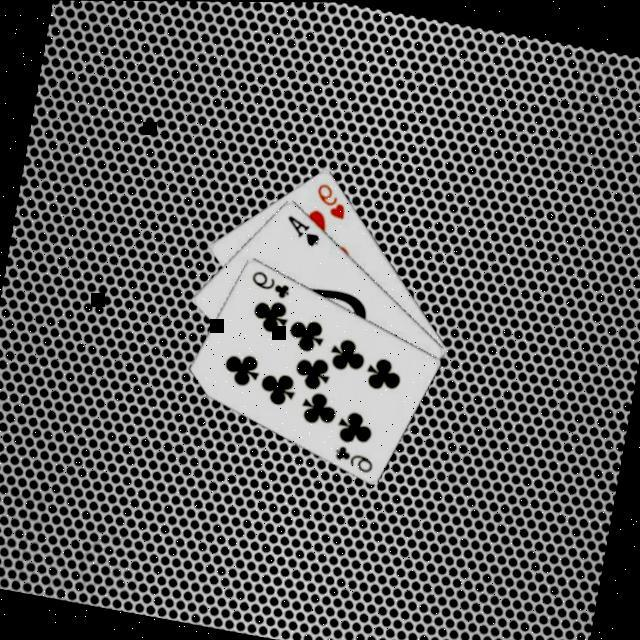9C: (243, 265, 293, 302), (326, 439, 376, 476)
9H: (308, 178, 350, 222)
AS: (277, 210, 324, 250)
